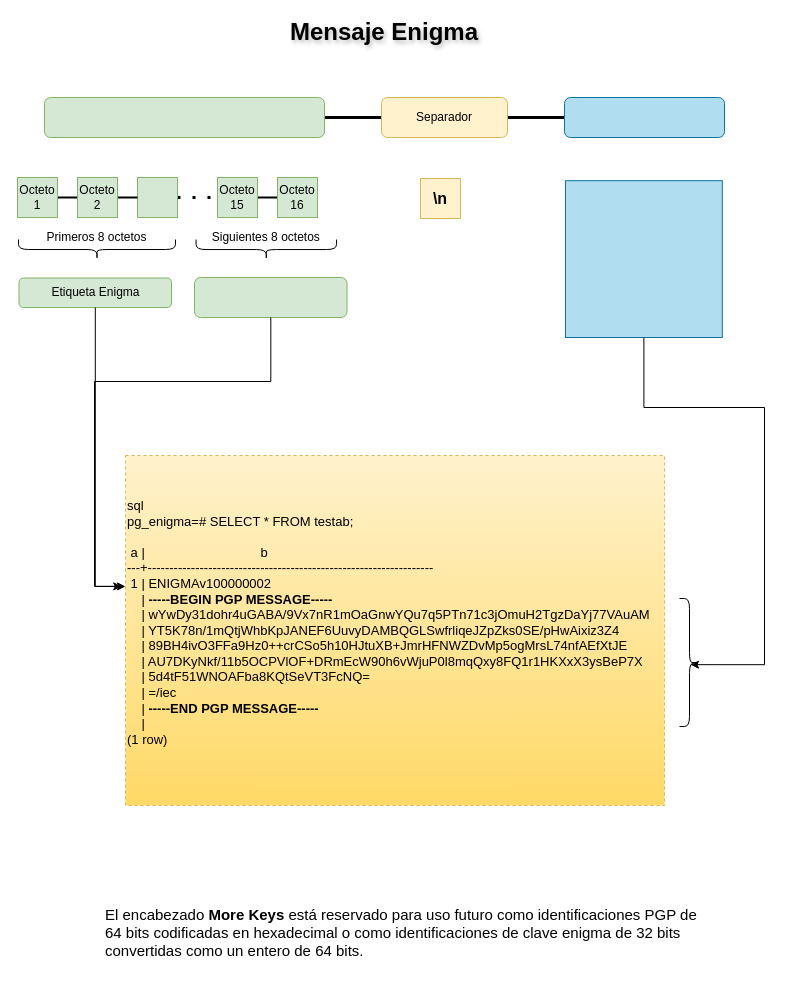
This 790x984 diagram has some shape labels left out. Here are the shapes that lost their labels. From the top down, the box of each, then its label:
(44, 96, 324, 138): Encabezado
(564, 96, 724, 138): Carga útil del mensaje
(136, 176, 178, 218): Octeto 3
(564, 180, 722, 338): Información mensajes de texto cifrados con PGP
(194, 276, 347, 318): Key_id < 2,147,483,647
